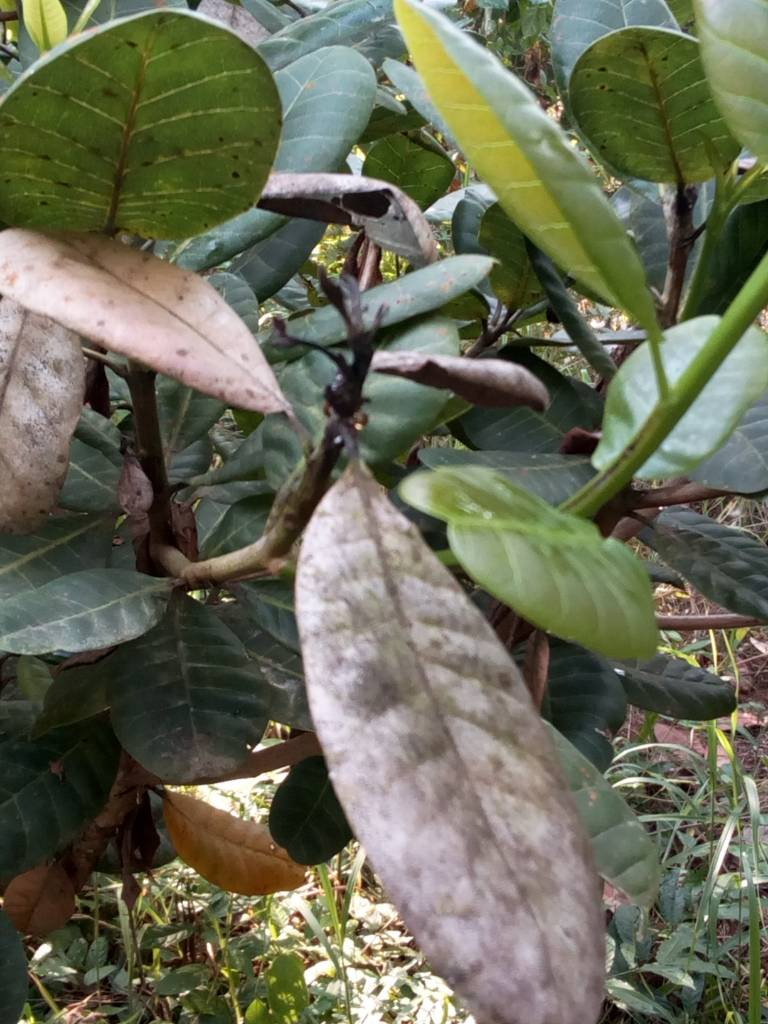Dessèchement des bourgeons: (295, 302, 404, 411)
